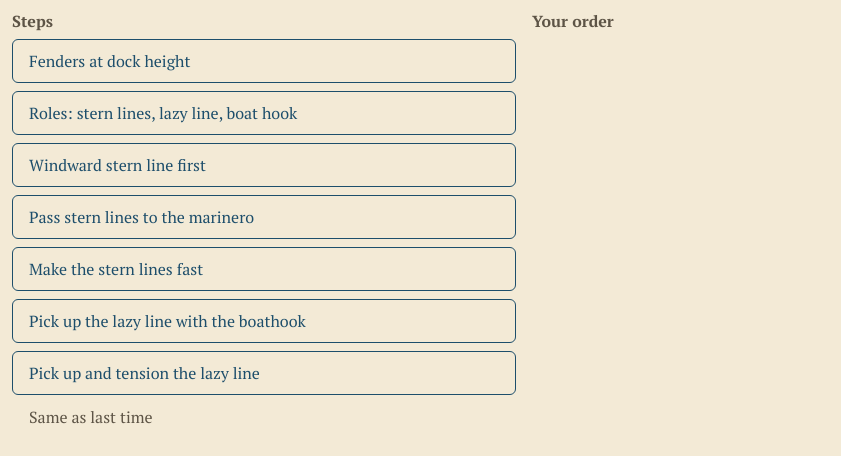
Scenario: OrderPicker: as last time › English note
This screenshot has width=841, height=456.
Click the button "Same as last time": (91, 417) [12, 395, 170, 439]
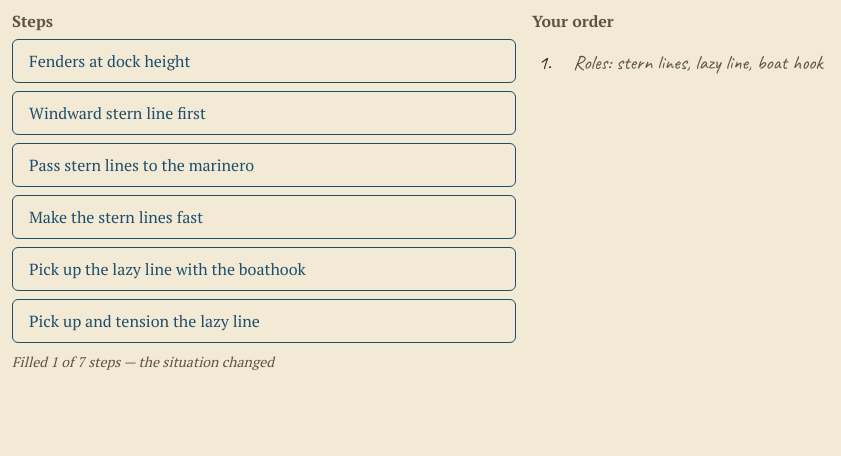
expect the text "Filled 1 of 7 steps — the situation changed" is shown: met, box [12, 352, 274, 371]
